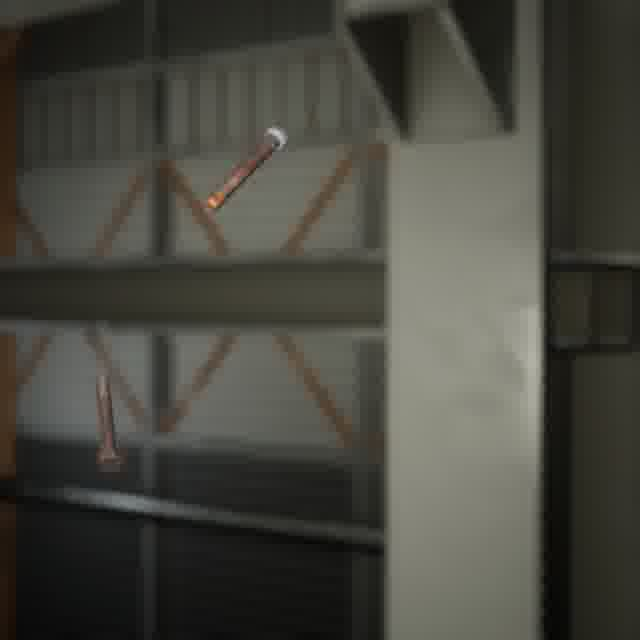bolt: (198, 120, 293, 217), (91, 371, 128, 477)
